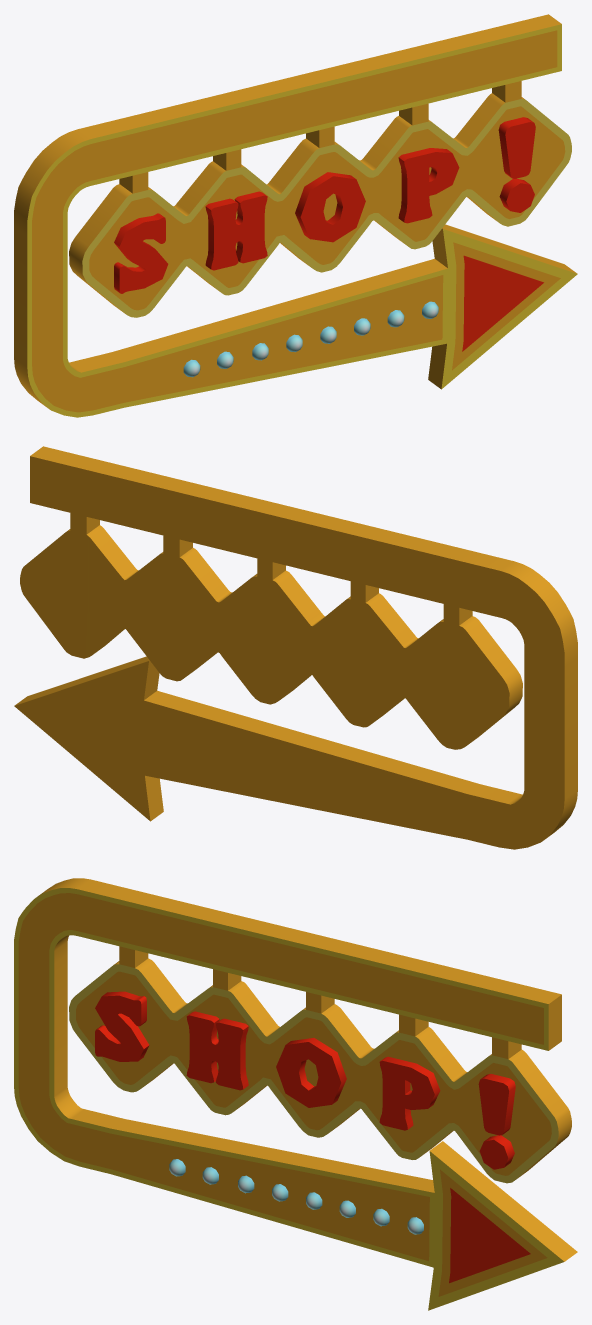
Rendered from Placa.fbx.
3 renders of one model, top to bottom at view 1: azimuth 30°, elevation 25°; view 2: azimuth 150°, elevation 25°; view 3: azimuth 330°, elevation 25°, orthographic.
Parts seen in each view (by area): view 1: Placa_Shop; view 2: Placa_Shop; view 3: Placa_Shop.
Boxes of the visible parts, x1,y1,x2,y2 form: Placa_Shop: (14, 14, 577, 417); Placa_Shop: (14, 446, 577, 849); Placa_Shop: (14, 878, 577, 1310).
Bounding box in the file's own units: 42.34 × 24.69 × 2.67.
